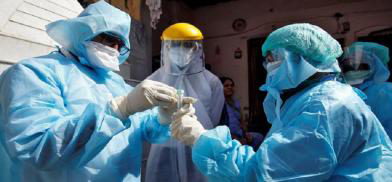Coverall: (194, 22, 392, 181), (1, 1, 157, 181), (142, 21, 224, 180), (343, 42, 392, 123)
Face_Shield: (159, 23, 206, 77), (341, 45, 380, 92)
Gloves: (115, 79, 177, 118), (158, 97, 197, 126), (172, 115, 204, 146)
Goggles: (341, 60, 374, 78), (169, 42, 199, 55)
